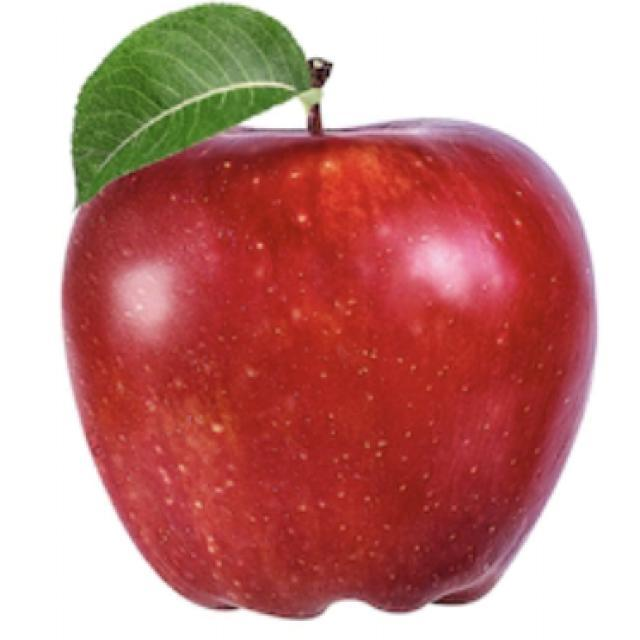Fresh Apple: (93, 122, 562, 610)
